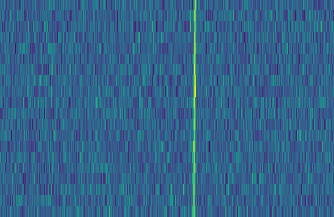signal: (189, 0, 199, 217)
